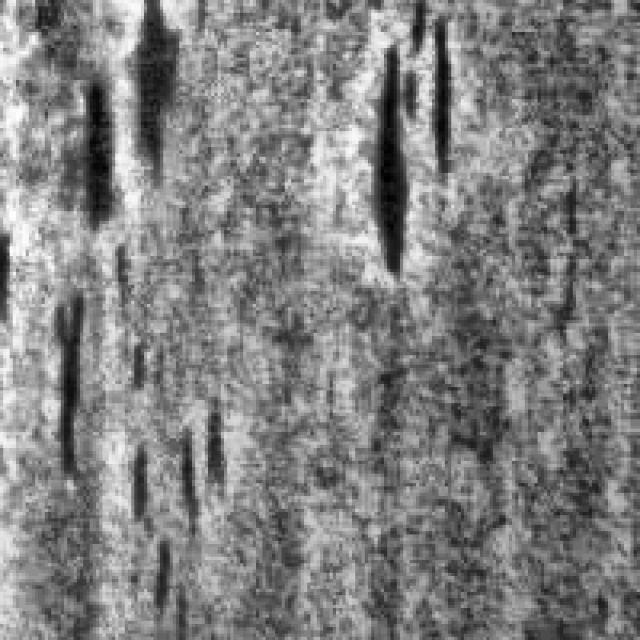Patches: (122, 336, 225, 627), (358, 0, 461, 275), (51, 54, 122, 237), (121, 0, 182, 198), (38, 285, 96, 480)
